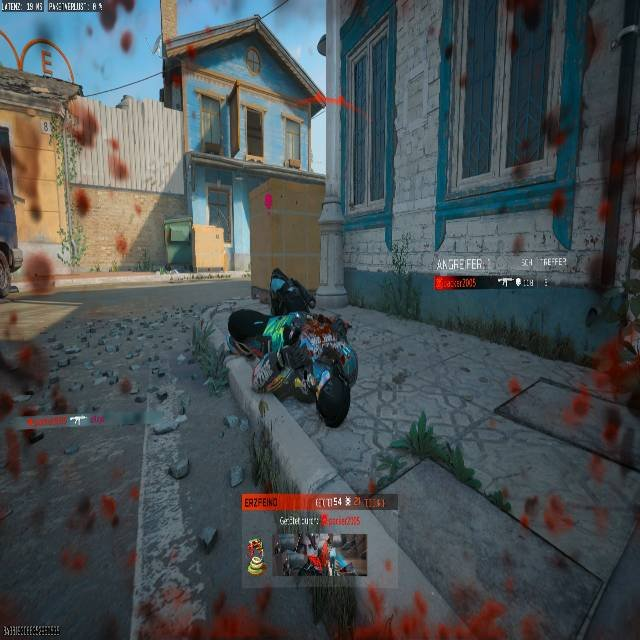player: (225, 266, 358, 429)
